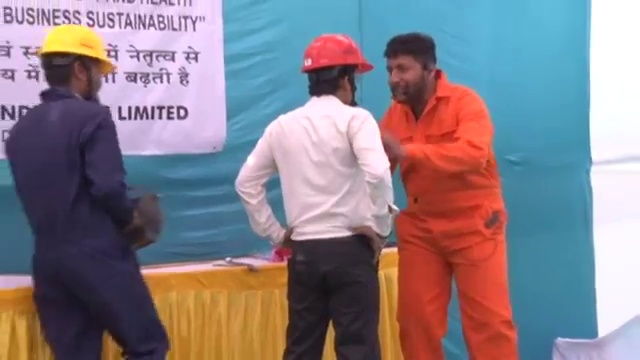helmet: (39, 22, 115, 75), (301, 30, 375, 74)
helmet_off: (383, 33, 440, 106)
helmet_on: (37, 22, 118, 103), (297, 30, 375, 107)
person: (5, 20, 166, 360), (236, 31, 395, 360), (379, 29, 521, 360)
